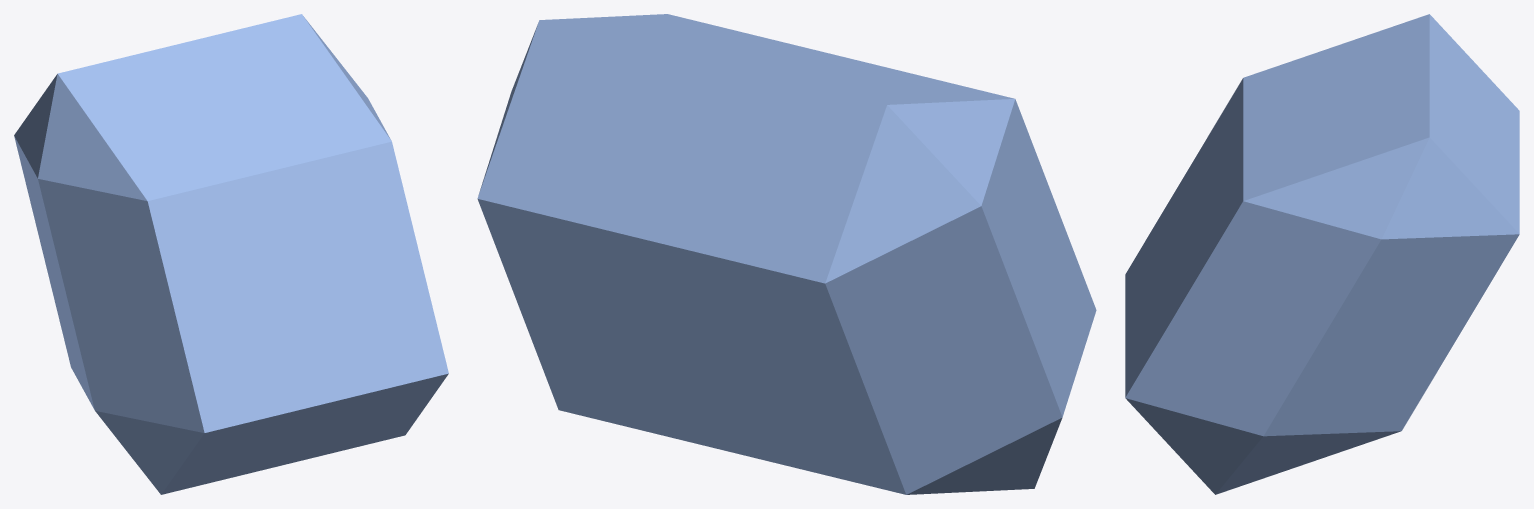
File: kn-pillow-blue.glb
3 renders of one model, left to right at view 1: azimuth 30°, elevation 25°; view 2: azimuth 150°, elevation 25°; view 3: azimuth 270°, elevation 25°, orthographic. The views are drawn at different scales.
Visible parts, largest first — view 1: pillowBlue(Clone); view 2: pillowBlue(Clone); view 3: pillowBlue(Clone).
Boxes of the visible parts, x1,y1,x2,y2 form: pillowBlue(Clone): (14, 14, 448, 494); pillowBlue(Clone): (477, 14, 1096, 494); pillowBlue(Clone): (1125, 14, 1519, 494).
Size of the model in its own units: 1 by 1 by 1.
